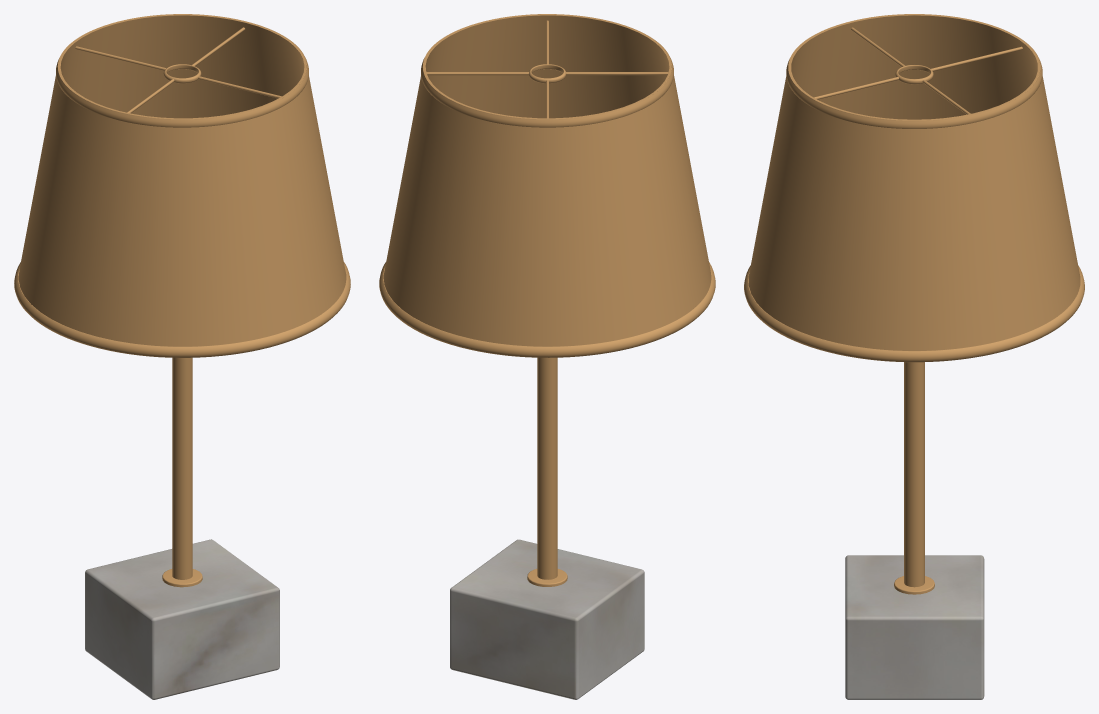
Rendered from plant_B07374M818.glb.
The picture shows the model from 3 angles, left to right: view 1: azimuth 30°, elevation 25°; view 2: azimuth 150°, elevation 25°; view 3: azimuth 270°, elevation 25°; orthographic projection.
Parts seen in each view (by area): view 1: RootNode; view 2: RootNode; view 3: RootNode.
Part boxes in pixels (<box>): RootNode: <box>14,14,350,699</box>; RootNode: <box>379,14,715,699</box>; RootNode: <box>744,14,1084,699</box>.
Size of the model in its own units: 0.2084 by 0.406 by 0.2084.
Materials: 1 (1 with a texture image).
